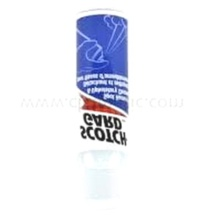aerosol_cans: (67, 2, 134, 215)
